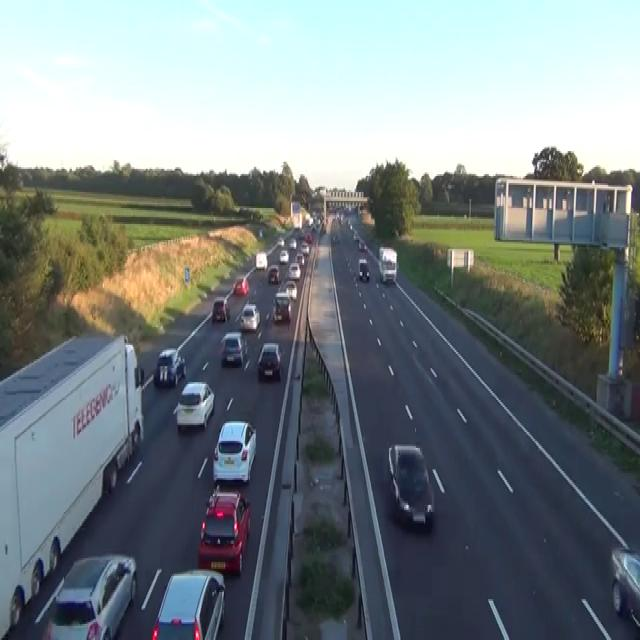Car: (43, 553, 137, 638), (151, 567, 225, 638), (197, 487, 251, 574), (387, 443, 433, 528), (212, 420, 256, 486), (610, 544, 639, 628), (172, 380, 214, 430), (153, 347, 186, 388), (257, 342, 282, 381), (220, 331, 247, 366), (239, 302, 260, 331), (272, 292, 291, 322), (211, 297, 230, 322), (277, 279, 297, 301), (233, 276, 249, 295), (358, 256, 369, 281), (267, 263, 279, 283), (288, 261, 301, 279), (278, 249, 289, 263), (358, 238, 367, 251), (295, 252, 304, 265), (300, 242, 309, 254), (331, 233, 340, 243), (289, 238, 296, 249), (446, 182, 455, 190), (277, 237, 284, 247), (305, 233, 312, 243), (320, 224, 326, 235), (299, 228, 304, 238), (353, 231, 358, 240), (308, 217, 313, 226), (258, 228, 262, 238), (348, 220, 352, 230)
Truck: (0, 332, 144, 638), (378, 245, 398, 283), (255, 251, 267, 270)
